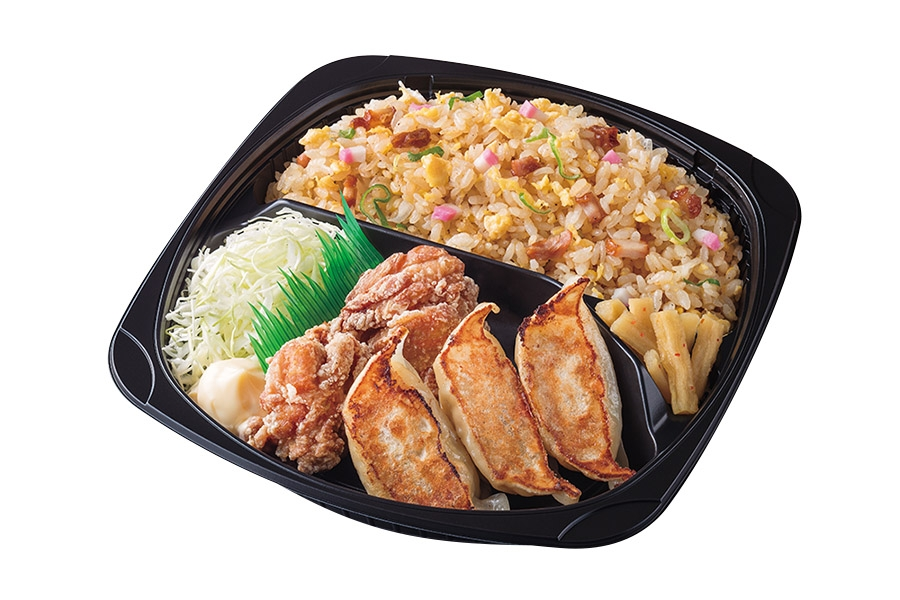fried_dumplings: (437, 319, 543, 501), (527, 298, 622, 474), (350, 366, 466, 510)
